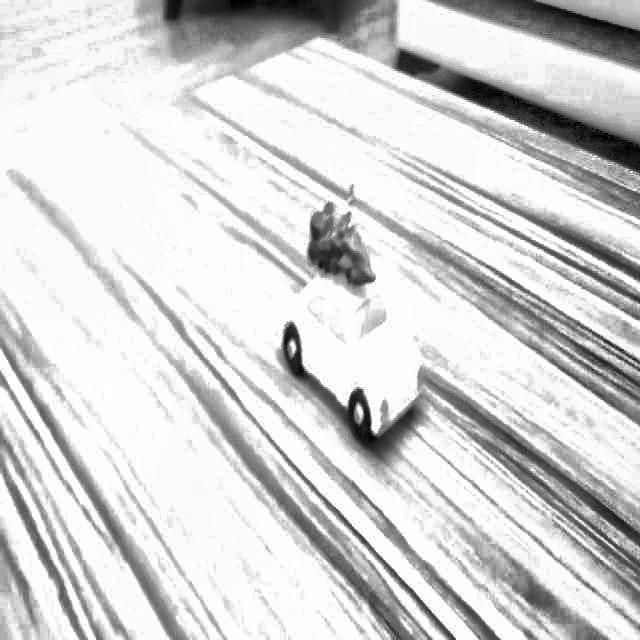carro: (277, 278, 423, 431)
